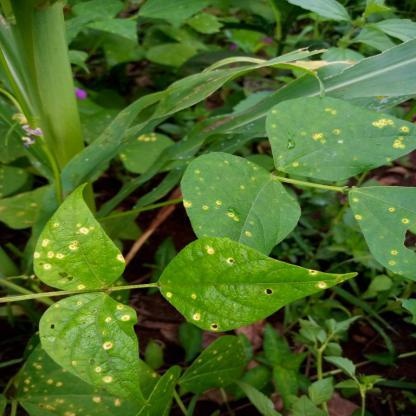Beans_Rust: (163, 234, 335, 328), (260, 96, 416, 175), (179, 151, 304, 243), (15, 339, 164, 416), (30, 181, 124, 291), (47, 294, 144, 384), (350, 182, 416, 283), (175, 335, 252, 386), (118, 130, 173, 172)
